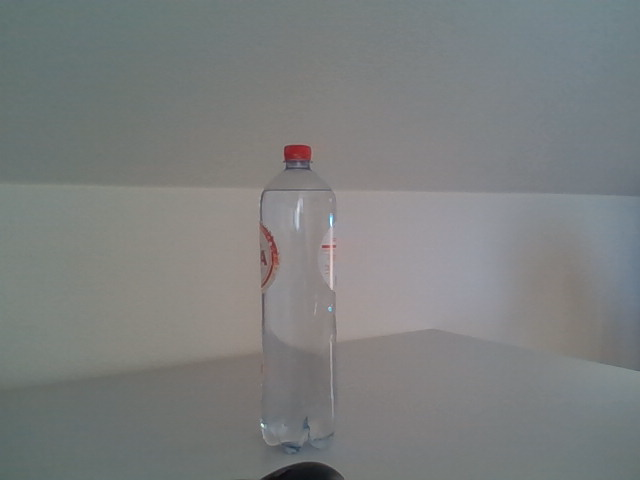bottle: (258, 145, 336, 455)
